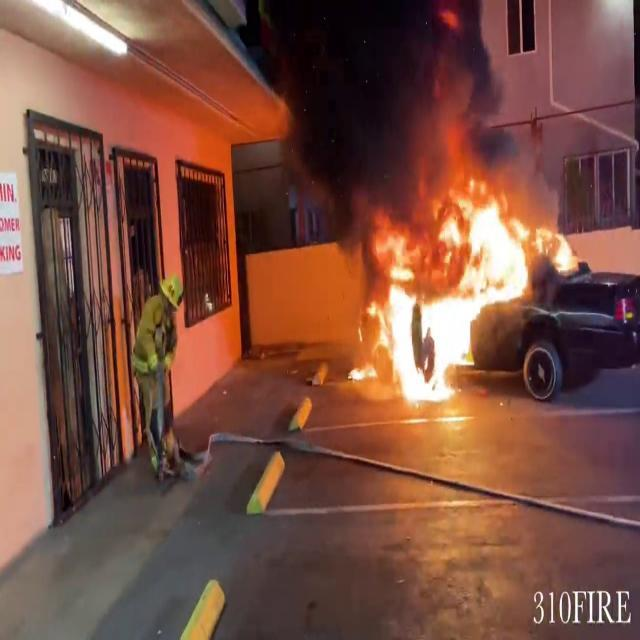Fire: (349, 170, 584, 398)
Smoke: (314, 0, 516, 211)
